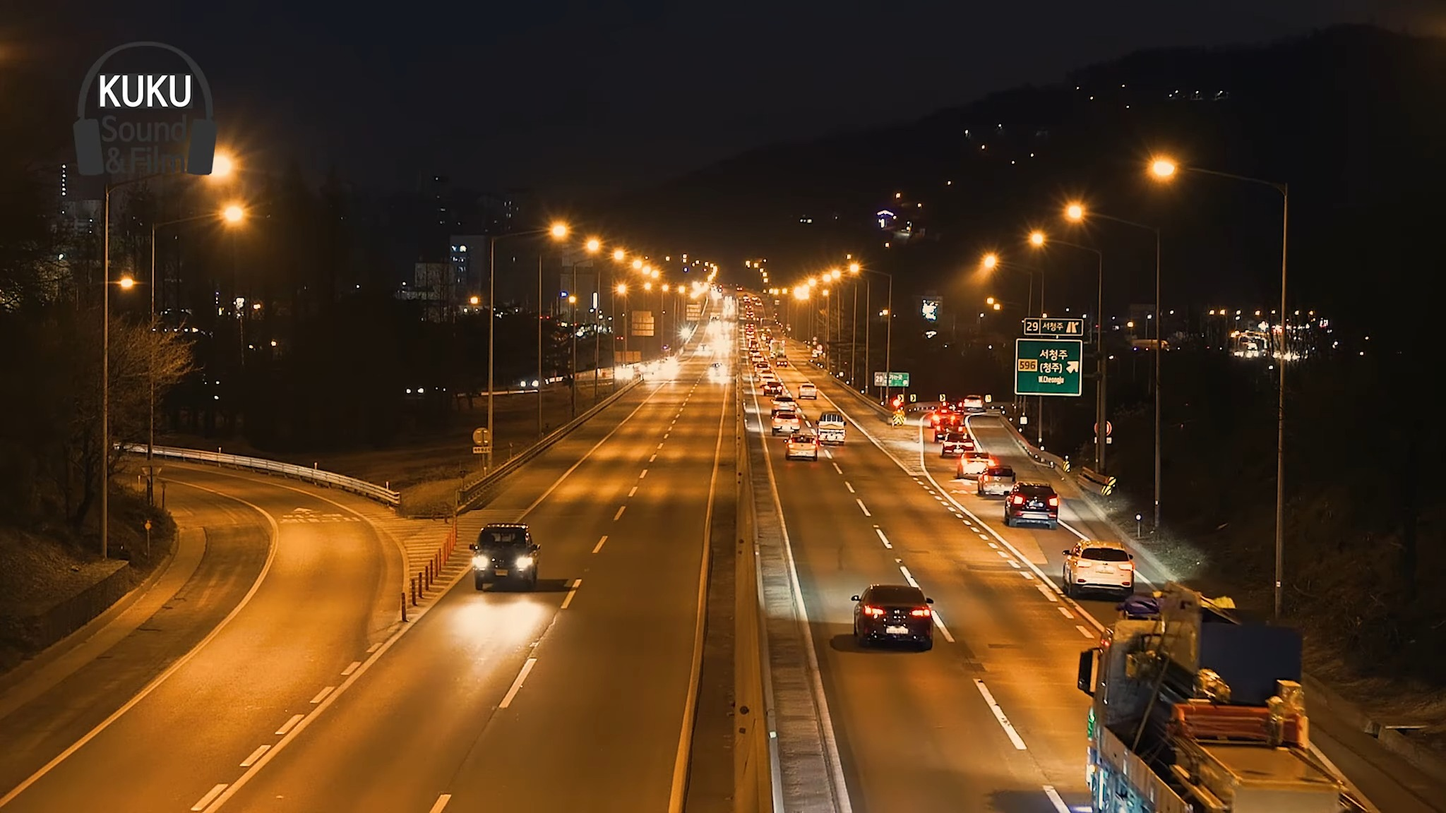car: (1063, 535, 1137, 607), (472, 517, 541, 594), (856, 586, 936, 649)
